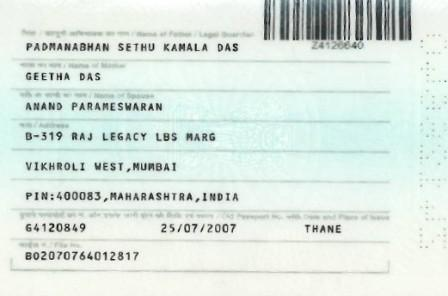File_no: (17, 245, 138, 262)
address: (19, 131, 240, 206)
father_name: (22, 39, 242, 54)
mother_name: (20, 69, 108, 84)
old_passport_details: (17, 218, 347, 238)
passport_no: (308, 39, 371, 53)
spouse_name: (21, 98, 166, 117)
